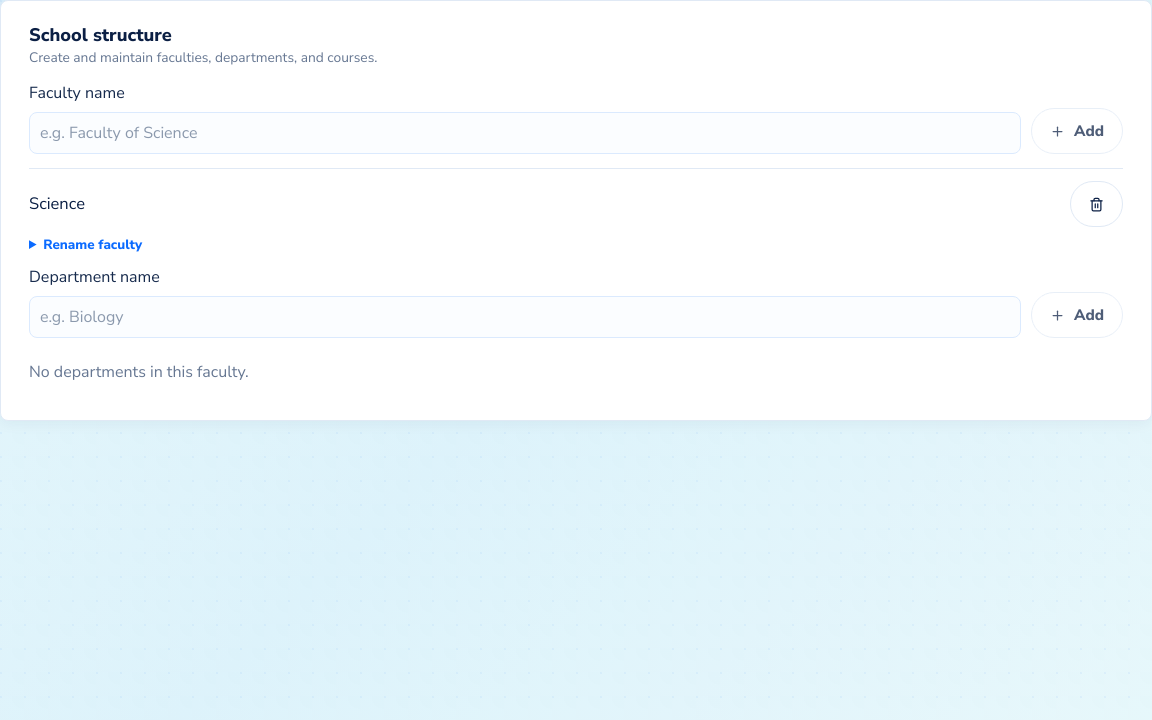
Administration structure and teachers › shows the real dependent-record conflict when deleting is blocked
Click the button named "Delete faculty Science".
click(1096, 204)  # box [1070,181,1123,227]
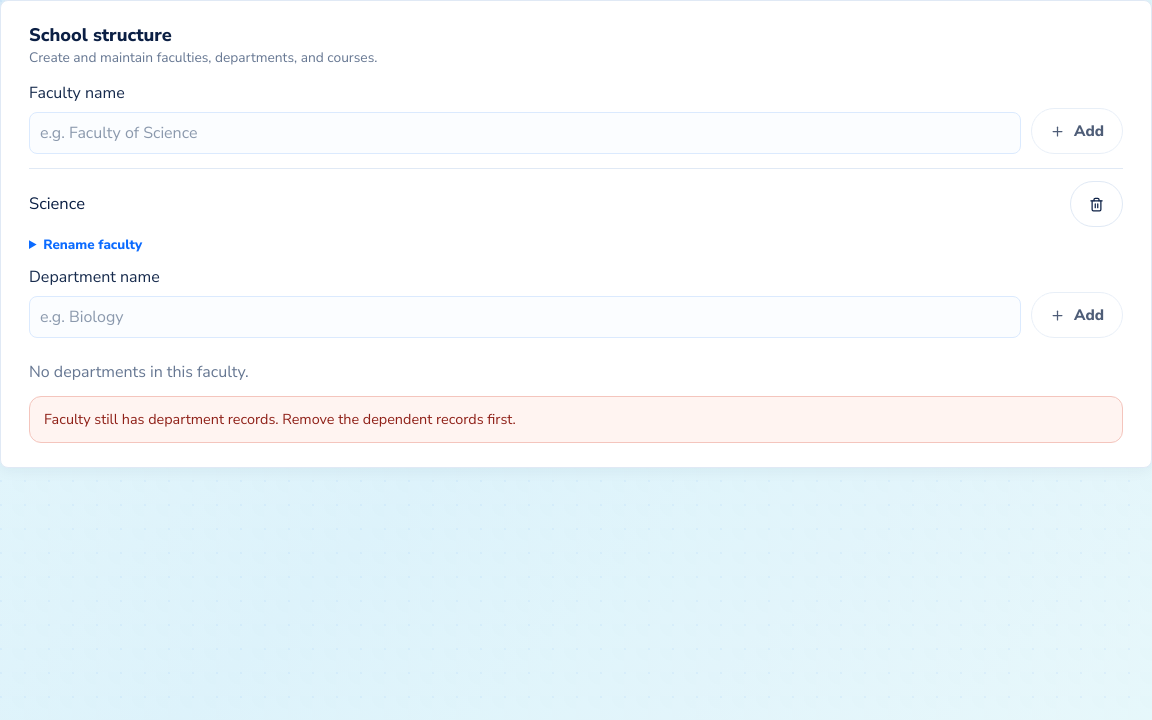
Expected: the message shows "Faculty still has department records", [44,409,516,429]
Expected: the message shows "Remove the dependent records first", [44,409,516,429]
